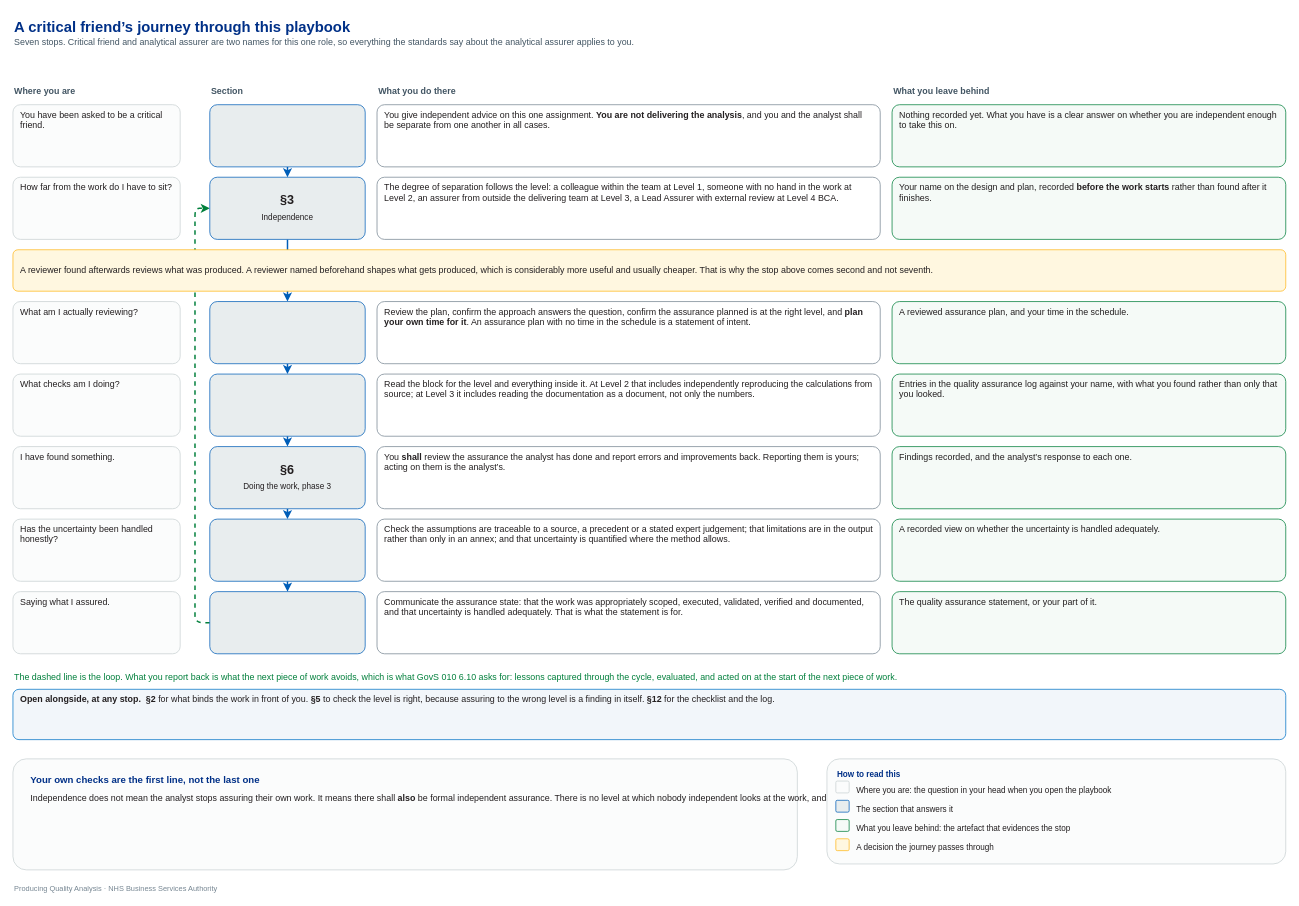
The diagram is 1299 pixels wide and 906 high, and some of its shapes have lost their labels. Each missing label, with the centre of its shape:
"§3 Roles and responsibilities" goes at (x=287, y=135).
"§6 Doing the work, phase 2" goes at (x=287, y=332).
"§6 The checks, by level" goes at (x=287, y=404).
"§7 Uncertainty" goes at (x=287, y=549).
"§9 Communicating analysis" goes at (x=287, y=622).
